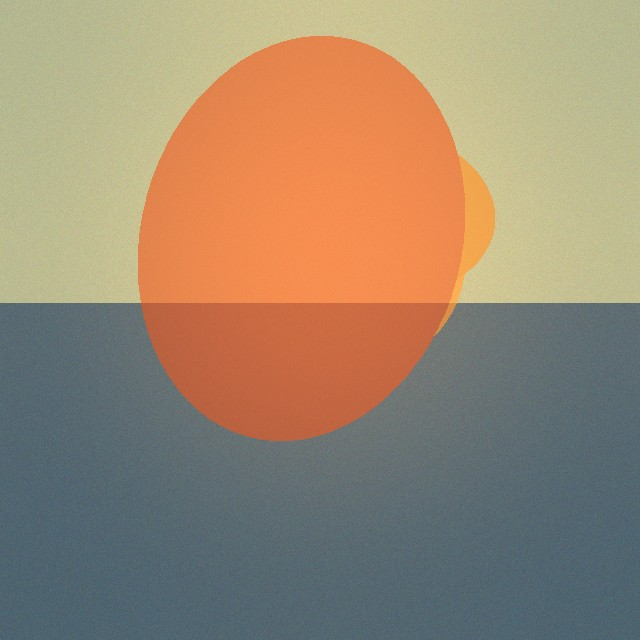fire: (240, 118, 428, 414)
